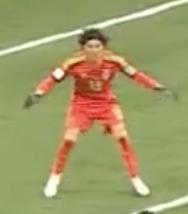goalkeeper: (16, 12, 188, 214)
